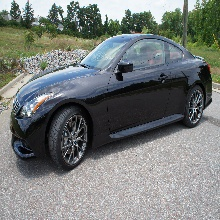no damage: (10, 33, 213, 168)
